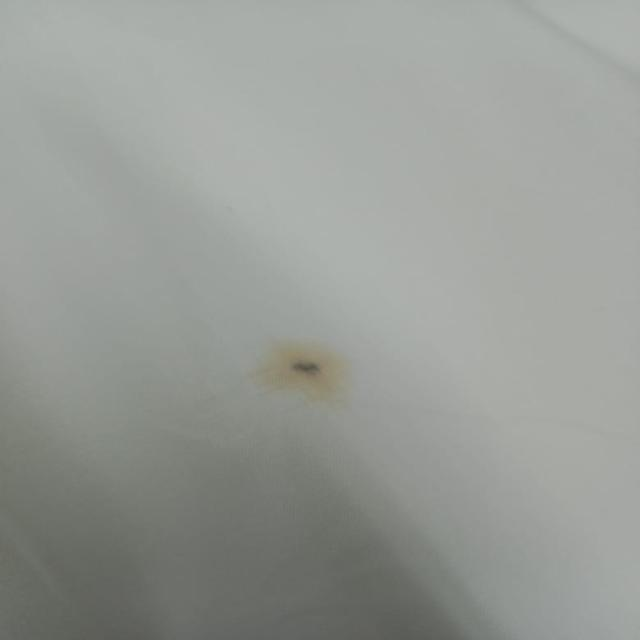stain: (242, 338, 359, 406)
